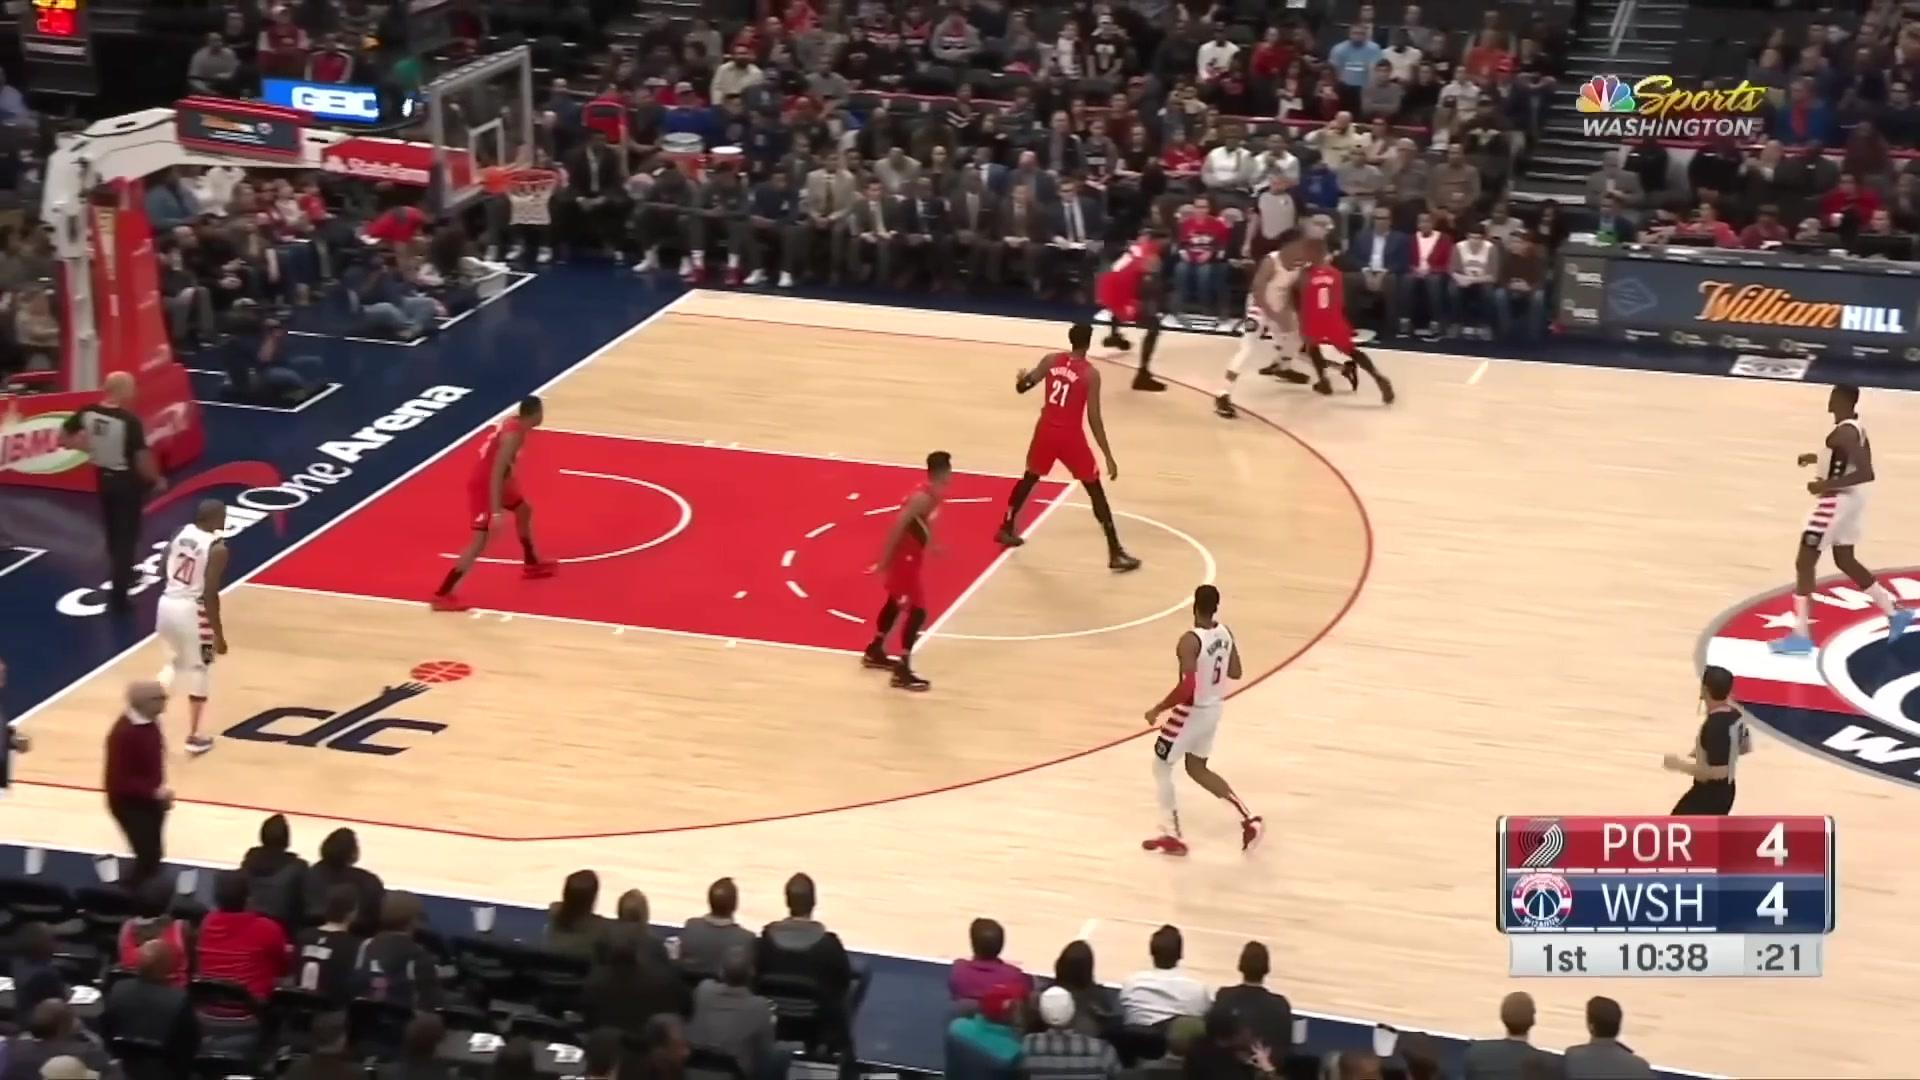foul: (1197, 222, 1395, 411)
